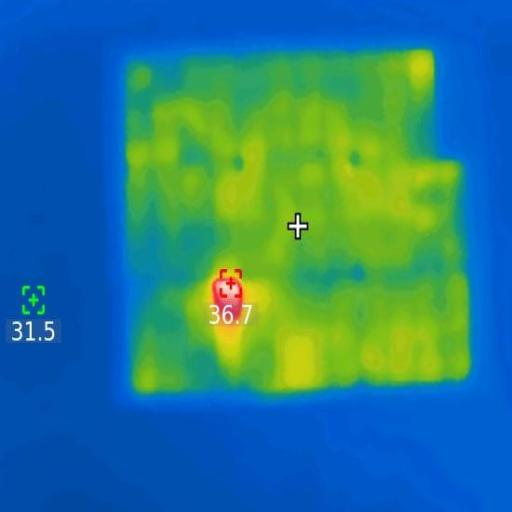hotspot: (210, 268, 249, 324)
